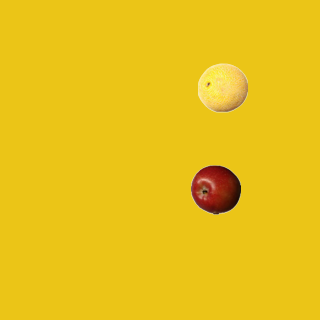Apple Braeburn: (190, 164, 240, 214)
Cantaloupe 1: (197, 62, 247, 112)
